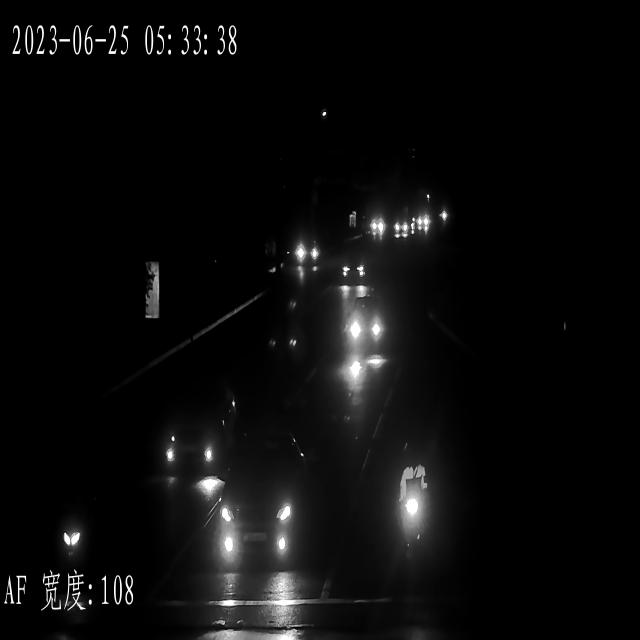Car: (205, 433, 310, 587), (159, 367, 243, 479), (262, 297, 308, 362), (347, 294, 388, 356), (339, 238, 367, 292), (297, 227, 323, 268), (388, 214, 408, 242), (415, 211, 439, 228), (372, 210, 385, 240)
Motorcycle: (389, 446, 437, 592), (59, 481, 100, 586)
